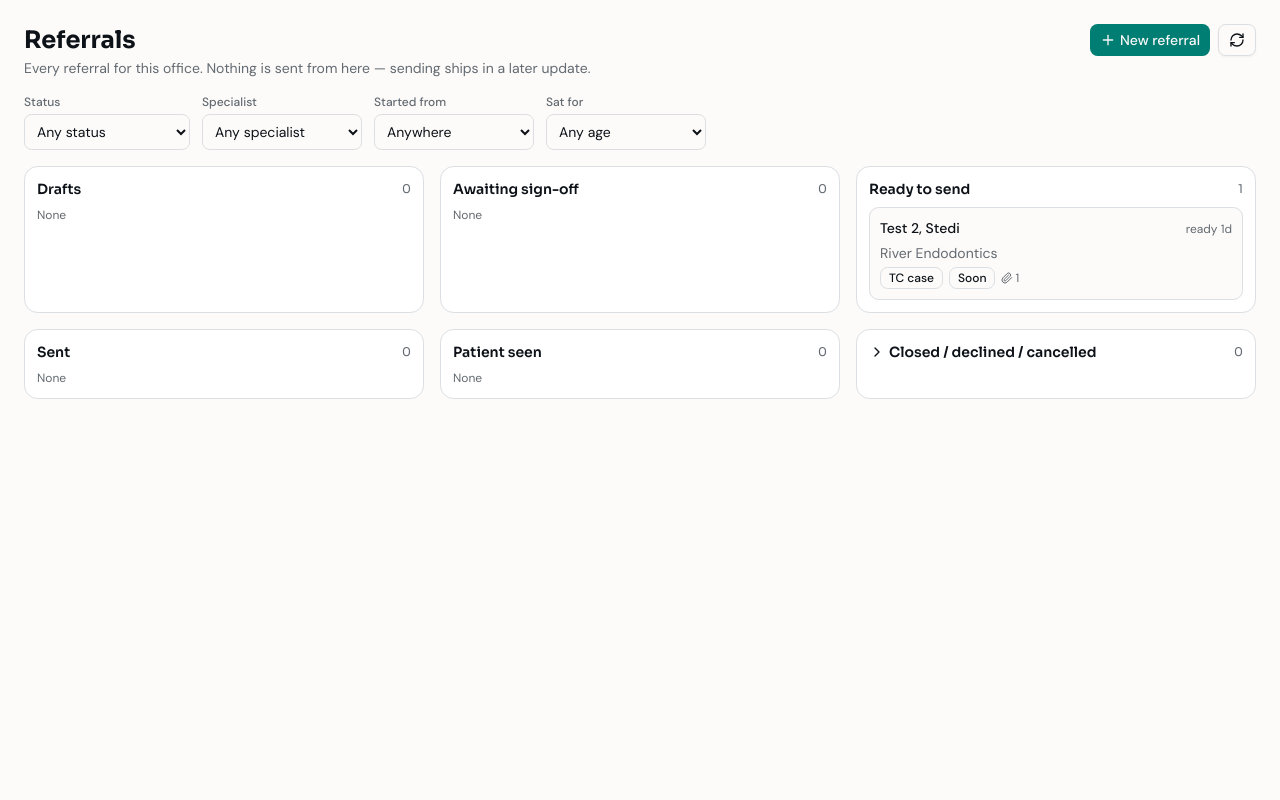
Scenario: email OFF — nothing changes › no emailSend from the server (an older one, or email off): no Send row, the old copy
Click the button with test id "tc-hub-card": (920, 228) x1=869 y1=207 x2=1243 y2=300
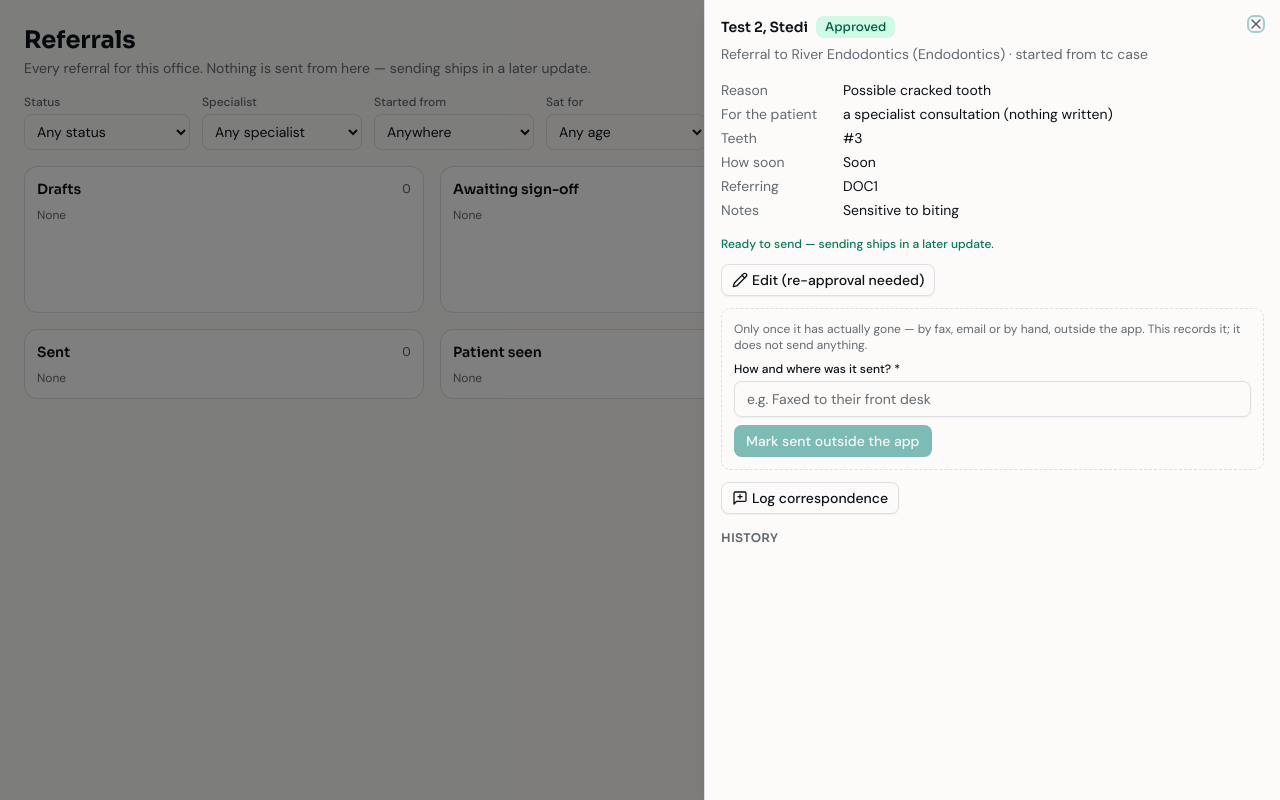
Expected: the text "Ready to send — sending ships in a later update." is shown, x1=721 y1=236 x2=994 y2=252
